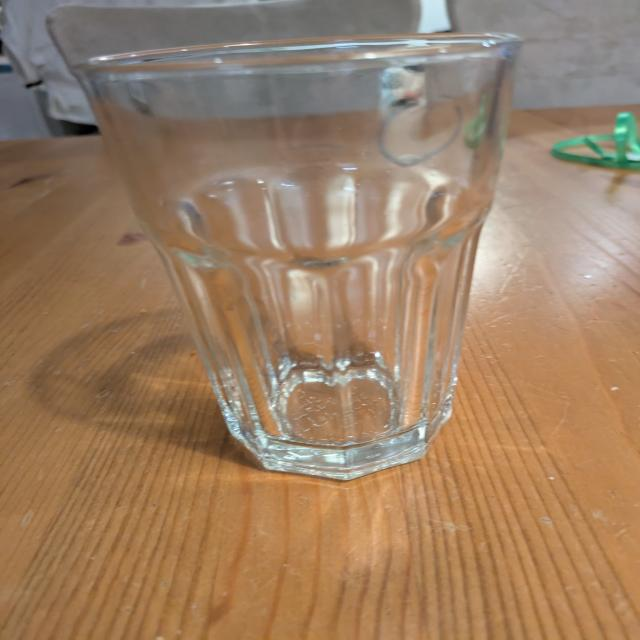mazak: (381, 90, 464, 167)
ok g1: (69, 32, 523, 485)
